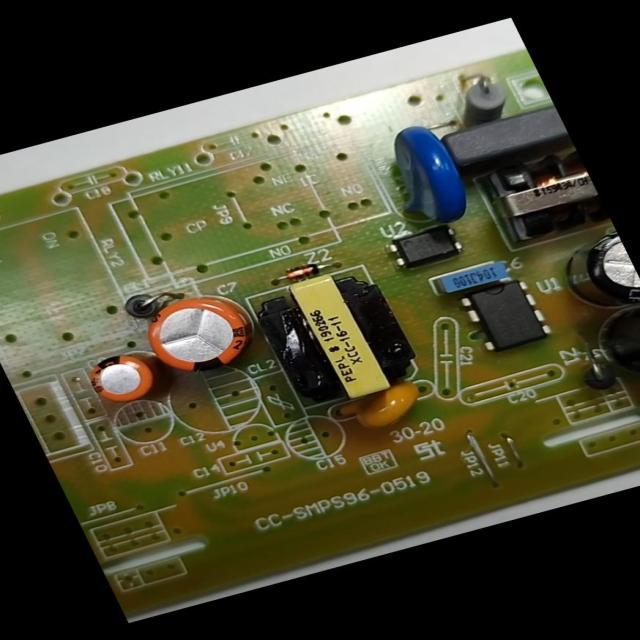Cap1: (123, 279, 272, 393)
Cap2: (66, 340, 180, 420)
Cap3: (544, 224, 639, 322)
Cap4: (575, 295, 639, 397)
MOSFET: (449, 271, 562, 361)
Mov: (363, 113, 489, 240)
Resistor: (442, 67, 523, 132)
Transformer: (242, 257, 436, 416), (471, 139, 613, 252)
